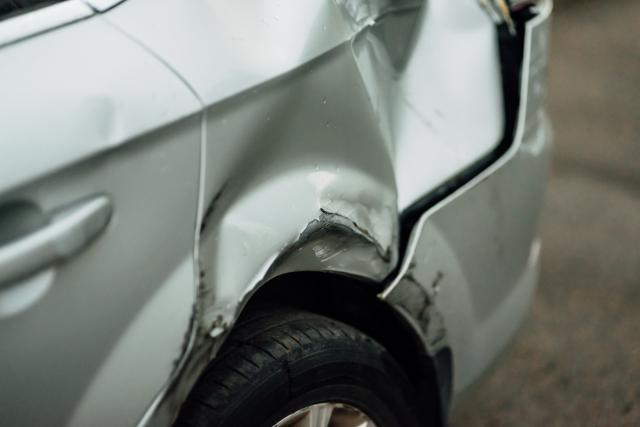dent: (193, 0, 504, 335)
scratch: (162, 284, 228, 400), (389, 257, 449, 348)
